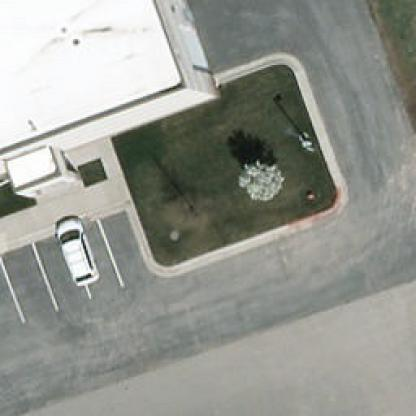car: (49, 214, 101, 288)
